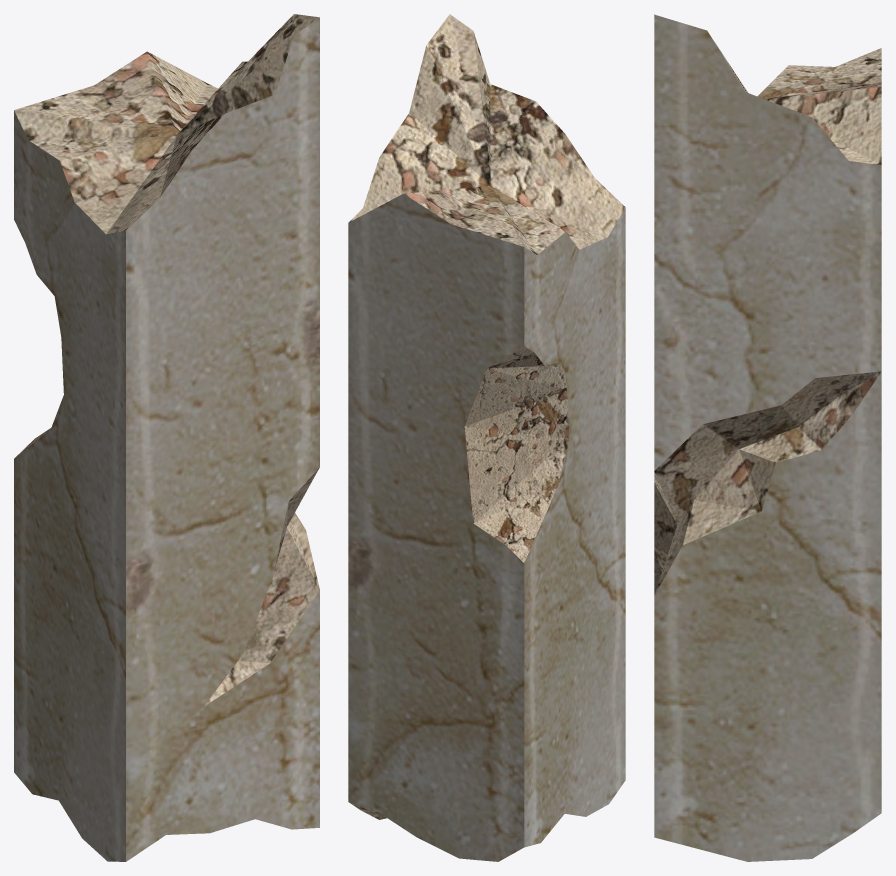
The model's file is bg_atm_runapass_churchpillar07_sm_lkj.FBX.
The picture shows the model from 3 angles, left to right: view 1: azimuth 30°, elevation 25°; view 2: azimuth 150°, elevation 25°; view 3: azimuth 270°, elevation 25°; orthographic projection. The views are drawn at different scales.
Visible parts, largest first — view 1: bg_atm_runapass_churchpillar07_sm_lkj; view 2: bg_atm_runapass_churchpillar07_sm_lkj; view 3: bg_atm_runapass_churchpillar07_sm_lkj.
Boxes of the visible parts, x1,y1,x2,y2 form: bg_atm_runapass_churchpillar07_sm_lkj: (14, 14, 319, 861); bg_atm_runapass_churchpillar07_sm_lkj: (348, 14, 625, 861); bg_atm_runapass_churchpillar07_sm_lkj: (654, 14, 881, 861).
Size of the model in its own units: 63.58 by 261 by 63.58.
